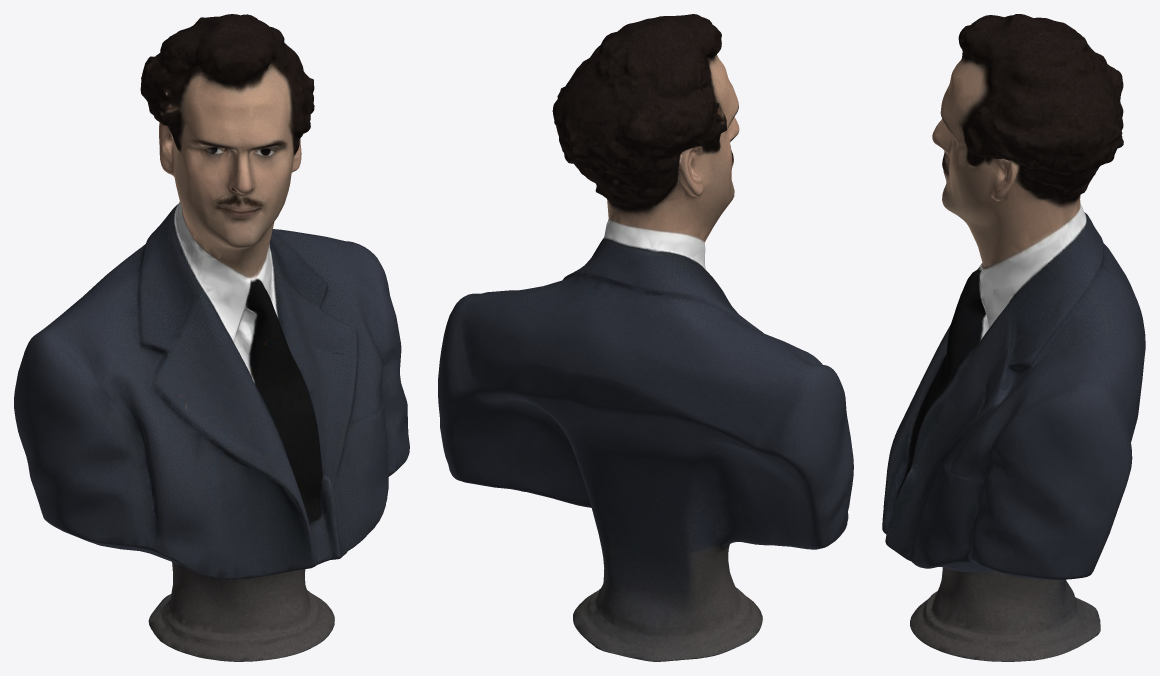
The picture shows the model from 3 angles, left to right: view 1: azimuth 30°, elevation 25°; view 2: azimuth 150°, elevation 25°; view 3: azimuth 270°, elevation 25°; orthographic projection.
Bounding box in the file's own units: 1.24 × 1.9 × 0.7498.
1 material, 1 textured.
